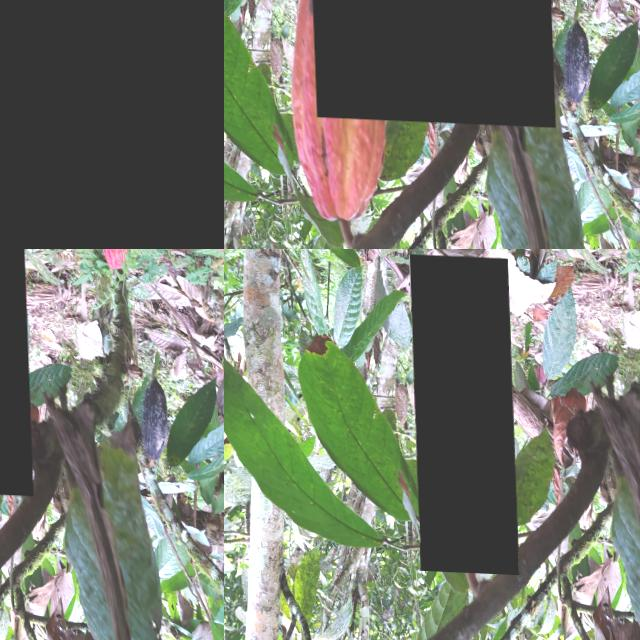Fitoftora: (0, 0, 224, 249), (407, 252, 515, 572)
Monilia: (304, 0, 552, 122)
Sana: (139, 481, 224, 640)
